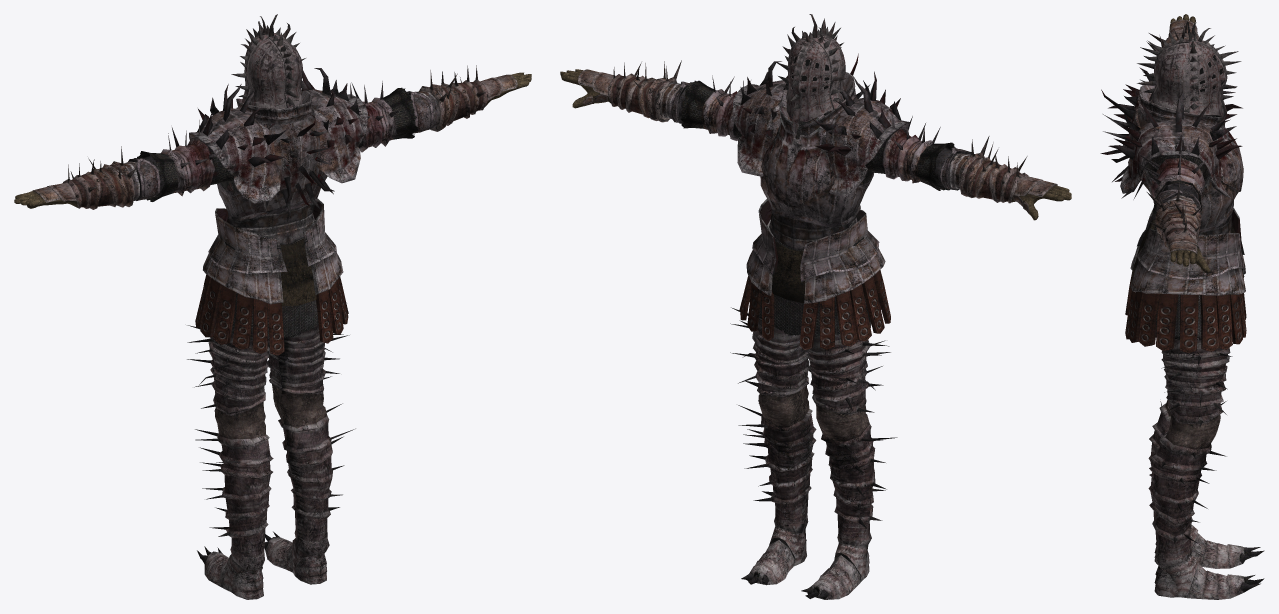
The model's file is kirkarmorset.obj.
3 views of the same model, side by side, from view 1: azimuth 30°, elevation 25°; view 2: azimuth 150°, elevation 25°; view 3: azimuth 270°, elevation 25° (orthographic).
Parts seen in each view (by area): view 1: kirklegs, mesh0, mesh1, kirkgloves, mesh3, mesh2, mesh4, kirkhelm; view 2: kirklegs, mesh1, mesh0, mesh2, kirkgloves, mesh3, mesh4, kirkhelm; view 3: kirklegs, mesh1, mesh4, kirkhelm, mesh0, mesh2, mesh3, kirkgloves.
Part boxes in pixels (box(x1,y1,x2,y2)): kirklegs: box(187, 238, 355, 599); mesh0: box(128, 80, 434, 306); mesh1: box(116, 68, 442, 304); kirkgloves: box(14, 65, 531, 209); mesh3: box(137, 87, 418, 273); mesh2: box(217, 89, 334, 221); mesh4: box(195, 274, 348, 355); kirkhelm: box(231, 14, 305, 108); kirklegs: box(730, 219, 897, 599); mesh1: box(660, 61, 982, 303); mesh0: box(669, 72, 971, 303); mesh2: box(760, 53, 873, 250); kirkgloves: box(560, 60, 1071, 220); mesh3: box(680, 80, 955, 282); mesh4: box(739, 270, 890, 350); kirkhelm: box(775, 14, 848, 124); kirklegs: box(1148, 226, 1264, 599); mesh1: box(1108, 67, 1245, 295); mesh4: box(1125, 274, 1246, 353); kirkhelm: box(1137, 21, 1241, 116); mesh0: box(1120, 78, 1244, 282); mesh2: box(1100, 85, 1243, 232); mesh3: box(1137, 156, 1244, 280); kirkgloves: box(1146, 14, 1210, 272).
Bounding box in the file's own units: 1.72 × 1.79 × 0.4807.
